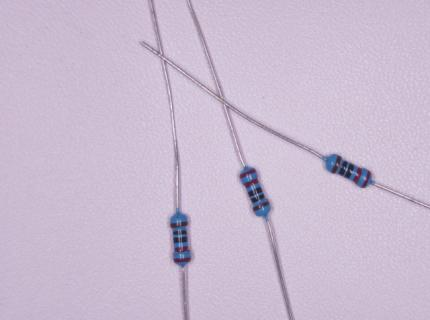Red band: (240, 168, 256, 179), (244, 177, 259, 188), (353, 168, 362, 184), (362, 170, 370, 188), (174, 256, 191, 262), (175, 246, 188, 252)
